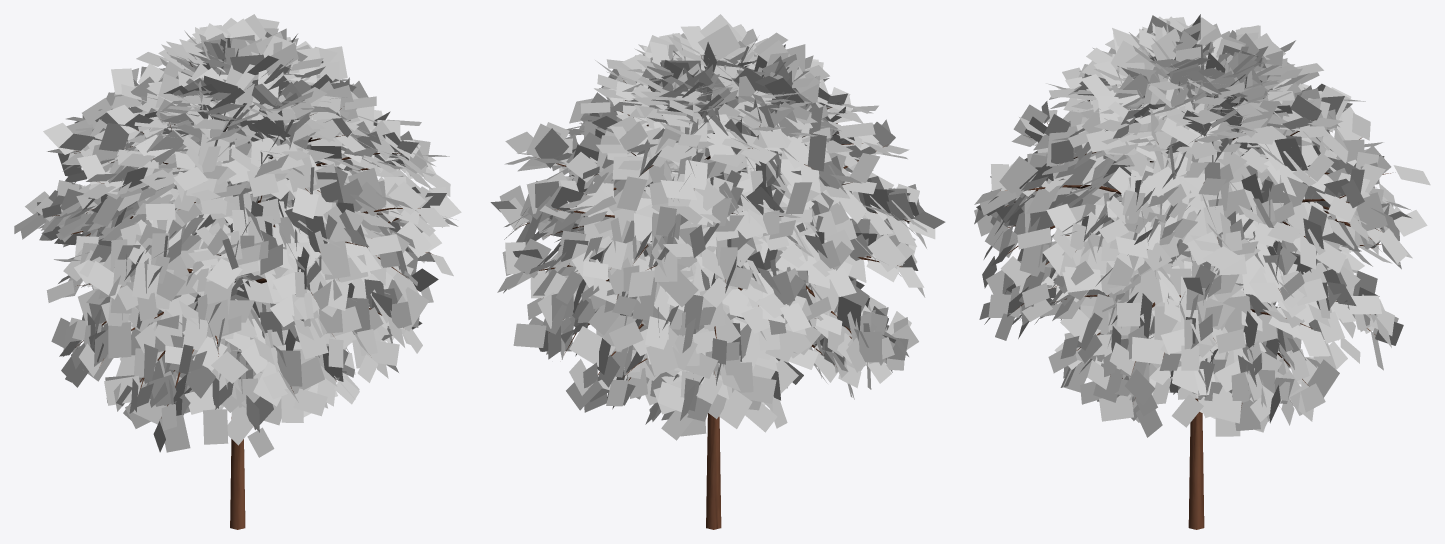
File: MapleTree.fbx
3 views of the same model, side by side, from view 1: azimuth 30°, elevation 25°; view 2: azimuth 150°, elevation 25°; view 3: azimuth 270°, elevation 25° (orthographic). The views are drawn at different scales.
Parts seen in each view (by area): view 1: MapleTree; view 2: MapleTree; view 3: MapleTree.
Part boxes in pixels (bbox=[...]): MapleTree: bbox=[14, 14, 461, 529]; MapleTree: bbox=[490, 14, 945, 529]; MapleTree: bbox=[974, 14, 1430, 529].
Bounding box in the file's own units: 1201 × 1403 × 1177.
